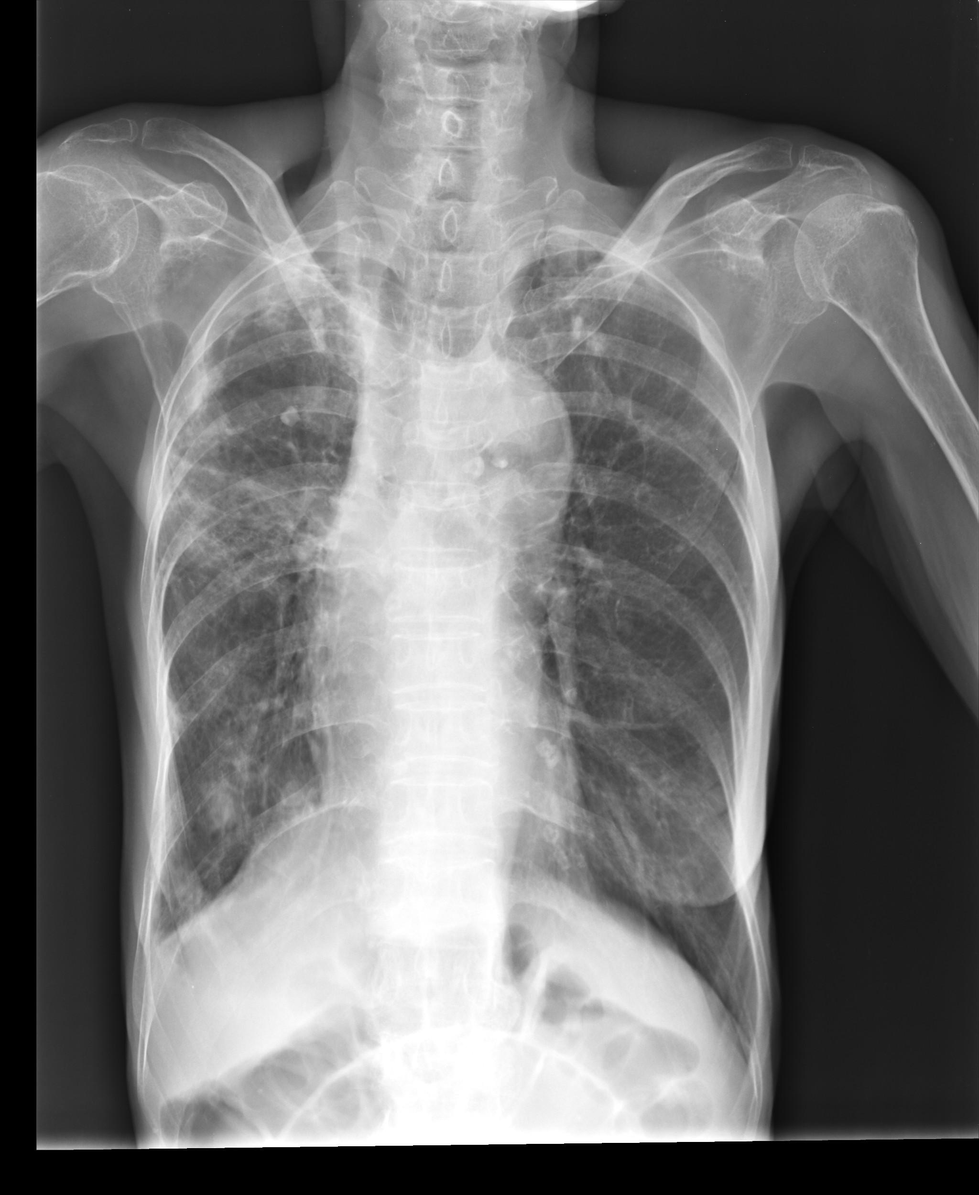Aortic enlargement: (424, 357, 580, 557)
Pleural thickening: (208, 238, 351, 320), (138, 885, 177, 980)
Pulmonary fibrosis: (161, 312, 350, 589), (552, 268, 715, 488), (199, 626, 296, 833)
